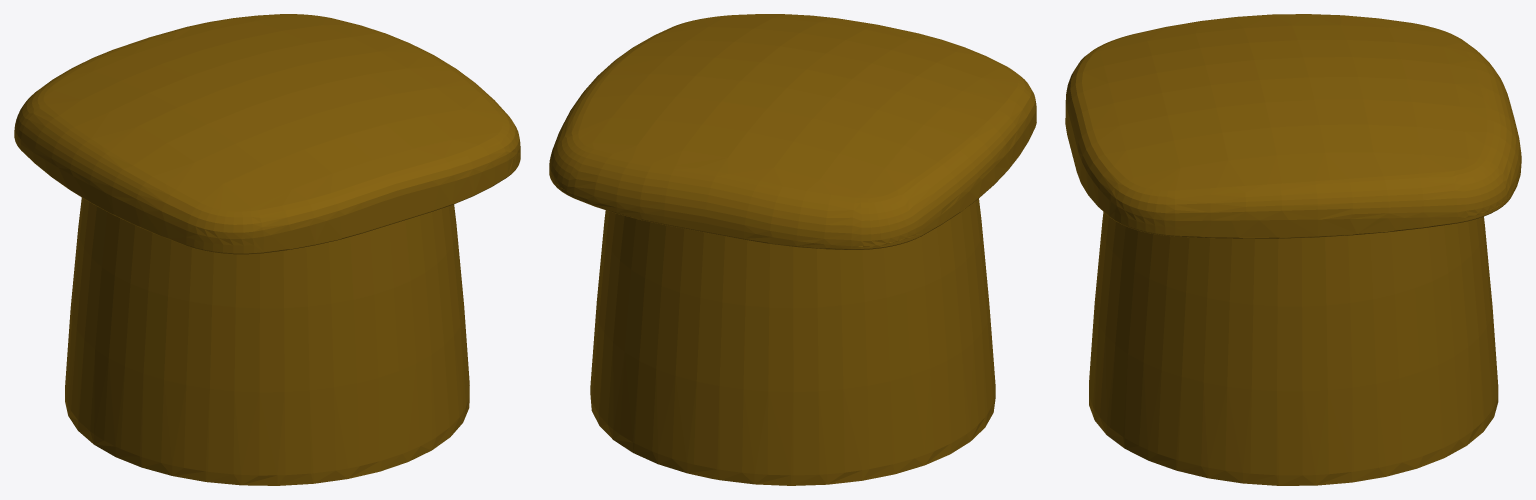
The model's file is agv_laser_link.dae.
3 views of the same model, side by side, from view 1: azimuth 30°, elevation 25°; view 2: azimuth 150°, elevation 25°; view 3: azimuth 270°, elevation 25° (orthographic).
Parts seen in each view (by area): view 1: laser_Link; view 2: laser_Link; view 3: laser_Link.
Part boxes in pixels (left/top/right/bottom): laser_Link: left=14, top=14, right=520, bottom=485; laser_Link: left=549, top=14, right=1036, bottom=485; laser_Link: left=1065, top=14, right=1521, bottom=485.
Bounding box in the file's own units: 0.0767 × 0.0777 × 0.0605.
